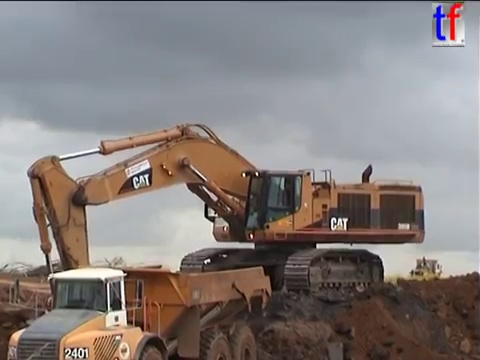excavator: (24, 119, 429, 305)
motor grader: (406, 255, 444, 286)
truck: (4, 262, 274, 359)
